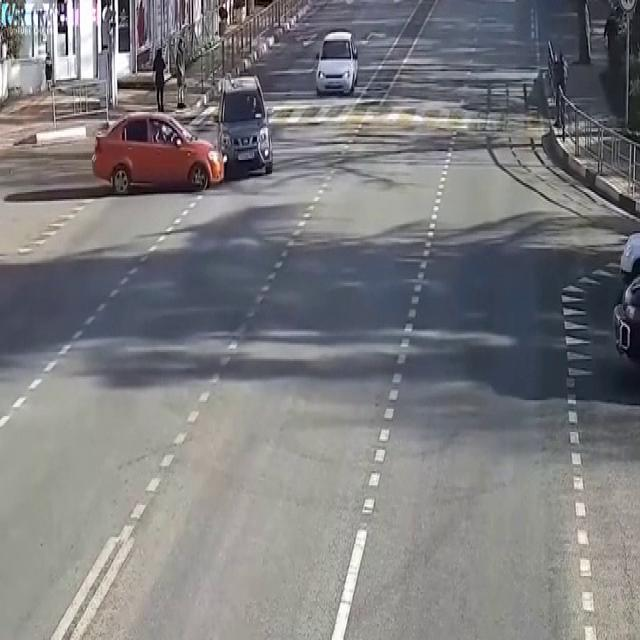accident: (150, 86, 281, 213)
